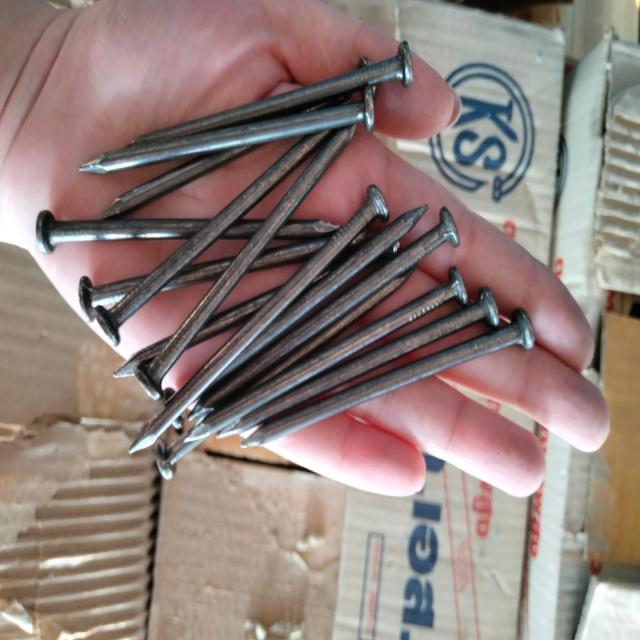3x8 nail: (107, 182, 569, 491), (68, 31, 430, 191)
